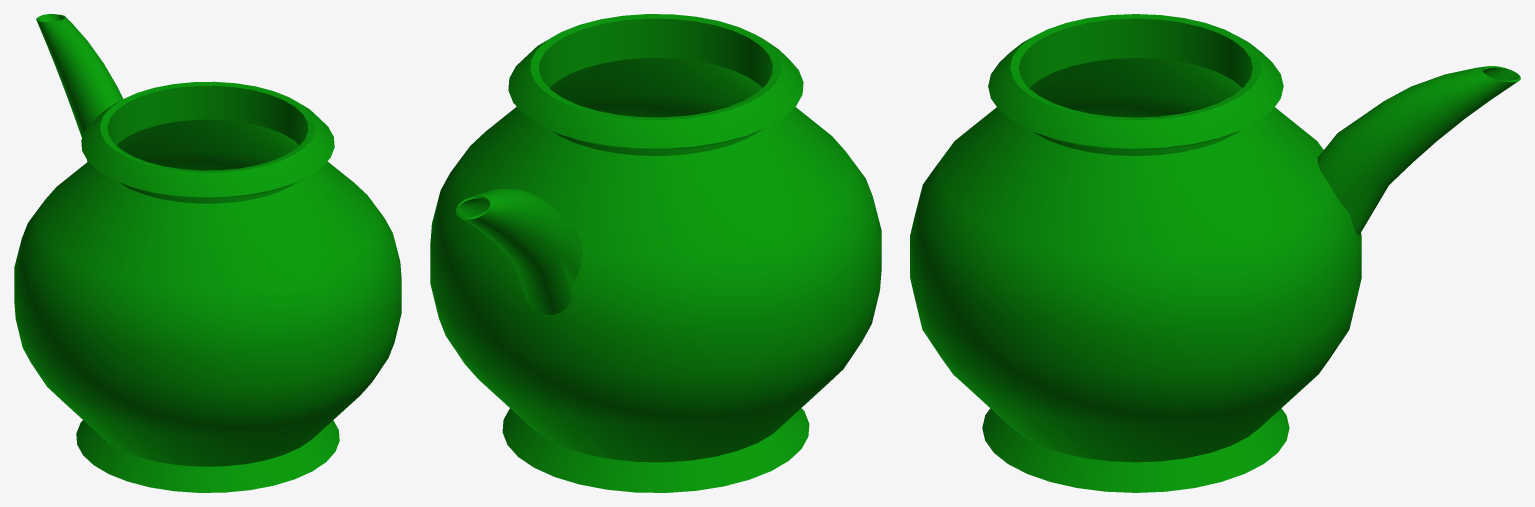
Rendered from bodna.glb.
The picture shows the model from 3 angles, left to right: view 1: azimuth 30°, elevation 25°; view 2: azimuth 150°, elevation 25°; view 3: azimuth 270°, elevation 25°; orthographic projection. The views are drawn at different scales.
Parts seen in each view (by area): view 1: Cylinder; view 2: Cylinder; view 3: Cylinder.
Part boxes in pixels (bbox=[...]): Cylinder: bbox=[14, 14, 401, 492]; Cylinder: bbox=[430, 14, 881, 492]; Cylinder: bbox=[910, 14, 1520, 492].
Bounding box in the file's own units: 2 × 1.76 × 2.7.
